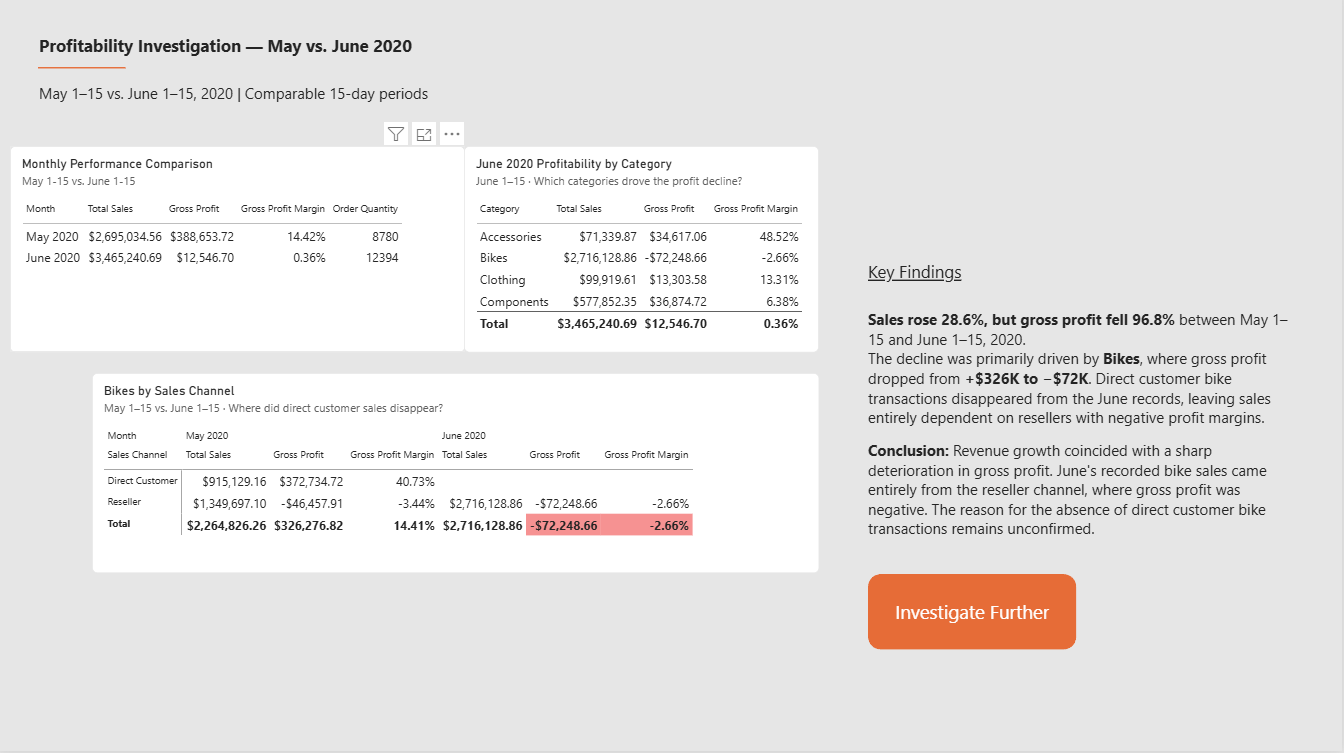

What the dashboard file says about the page in this screenshot:
{"tool":"powerbi","page":{"name":"Profitability Investigation ","canvas":[1920,1080],"ordinal":5},"visuals":[{"type":"tableEx","title":"Monthly Performance Comparison","fields":{"Values":["Date.Month","Sales.Total Sales","Sales.Gross Profit","Sales.Gross Profit Margin","Sum(Sales.Order Quantity)"]},"box":[16.7,215,650,295],"z":0},{"type":"tableEx","title":"June 2020 Profitability by Category","fields":{"Values":["Product.Category","Sales.Total Sales","Sales.Gross Profit","Sales.Gross Profit Margin"]},"box":[666.1,215.3,506.8,294.9],"z":1000},{"type":"pivotTable","title":"Bikes by Sales Channel","fields":{"Columns":["Date.Month"],"Rows":["Sales.Sales Channel"],"Values":["Sales.Total Sales","Sales.Gross Profit","Sales.Gross Profit Margin"]},"box":[133.9,540.7,1039,286.4],"z":2000},{"type":"actionButton","box":[1242.4,827.1,297.6,108],"z":3000},{"type":"textbox","box":[1242.4,378,608.5,401.7],"z":4000},{"type":"textbox","box":[58.3,55,650,106.7],"z":5000},{"type":"shape","box":[57.6,71.2,125.4,65],"z":6000}]}

Visuals, with their boxes in screenshot pixels (x1, y1, x2, y2), scaled from the page's 1920x1080 canvas onto the 1344x753 screenshot:
"Monthly Performance Comparison" tableEx: BBox(12, 150, 467, 356)
"June 2020 Profitability by Category" tableEx: BBox(466, 150, 821, 356)
"Bikes by Sales Channel" pivotTable: BBox(94, 377, 821, 577)
actionButton: BBox(870, 577, 1078, 652)
textbox: BBox(870, 264, 1296, 544)
textbox: BBox(41, 38, 496, 113)
shape: BBox(40, 50, 128, 95)
